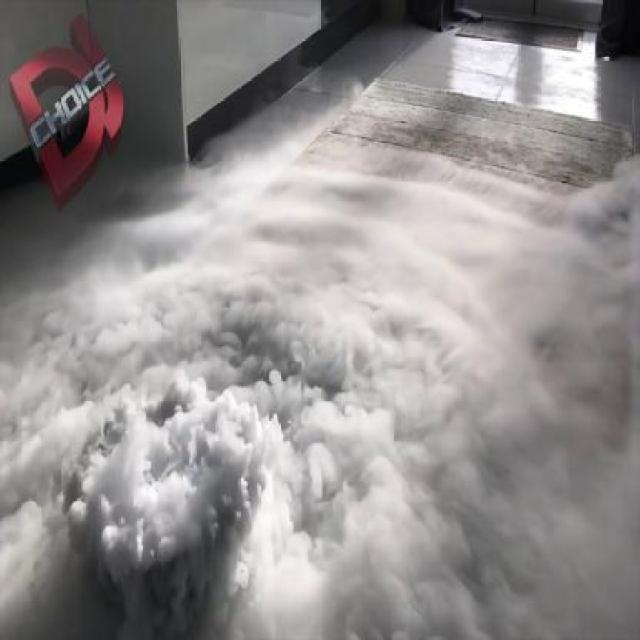smoke: (6, 172, 640, 634)
